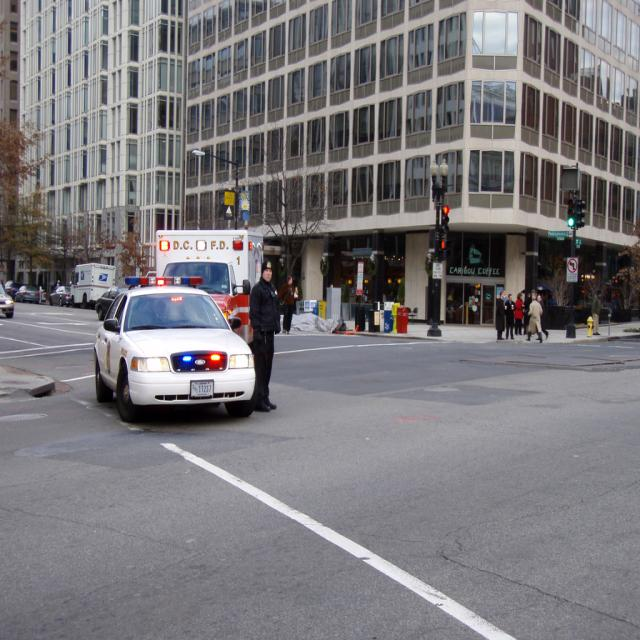car: (93, 254, 255, 421)
